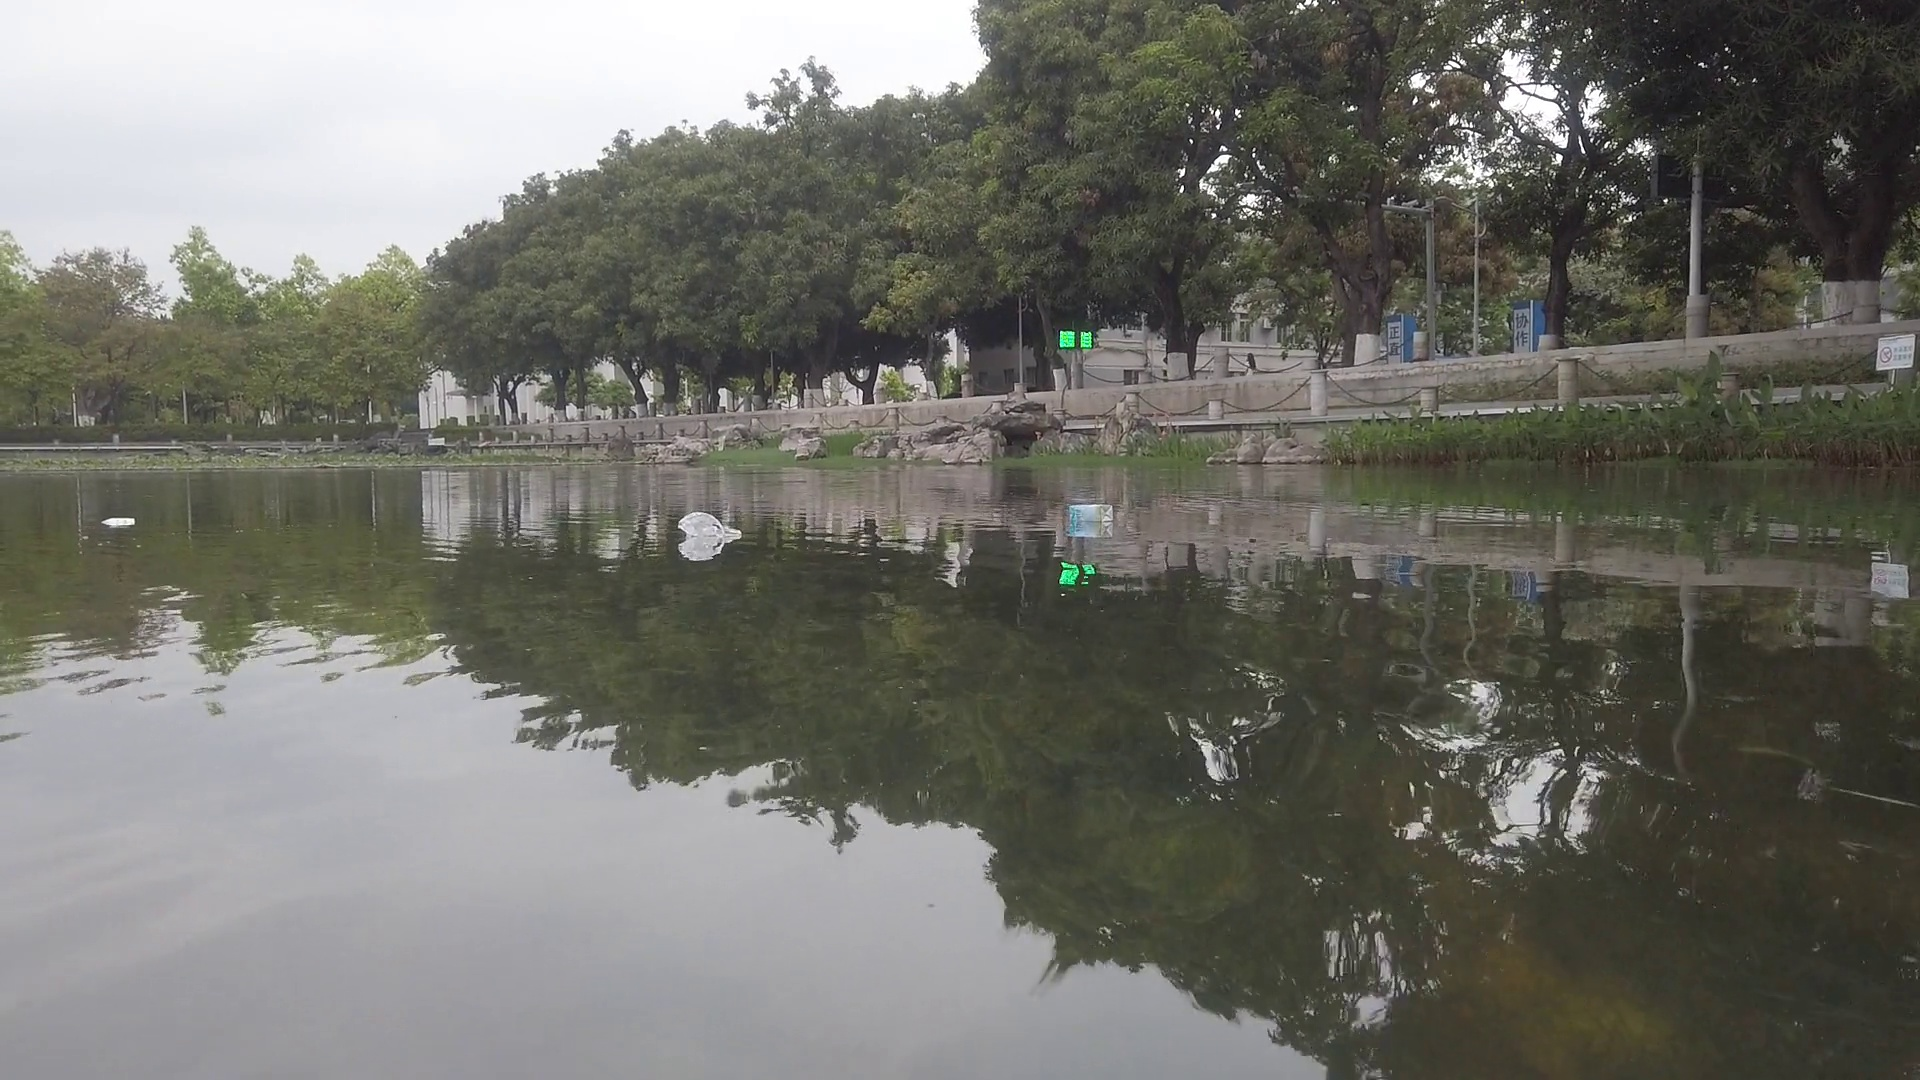carton: (1069, 502, 1118, 525)
paper: (104, 516, 135, 526)
plastic: (680, 514, 737, 545)
